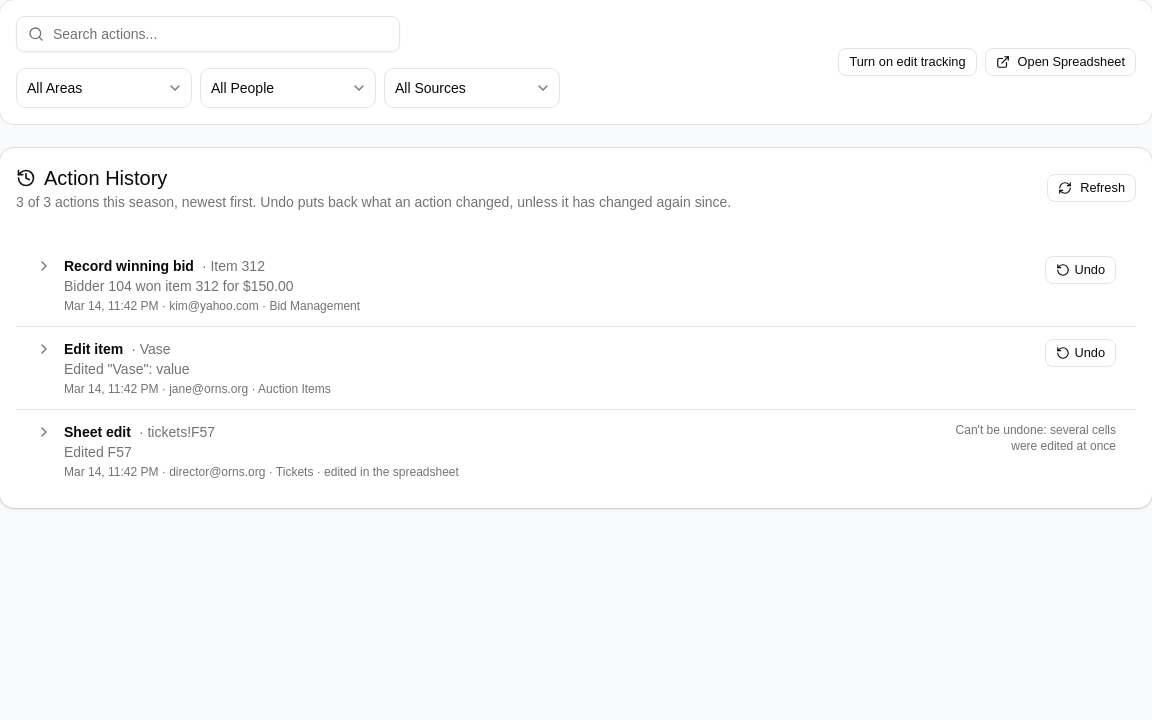
it: ActionHistoryAdmin › shows Before and After when a row is expanded
What coordinates should you click on to do the following:
click the button named "Show details" next to "Record winning bid"
I would click on:
 (44, 266)
Its box is [36,258,52,274].
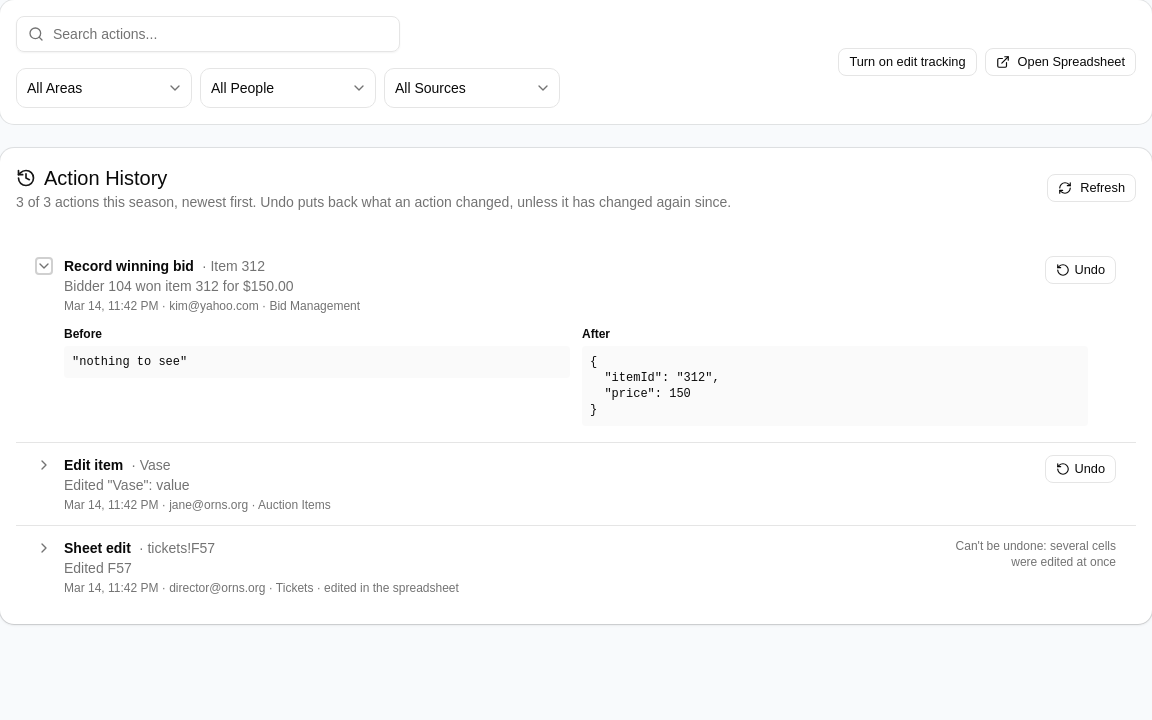
Expected: the text "{ \"itemId\": \"312\", \"price\": 150 }" is shown, [582,346,1088,426]
